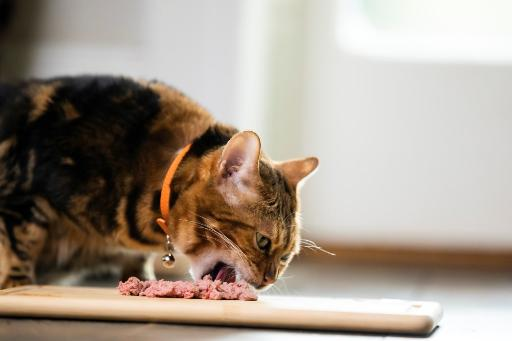cat_eating: (0, 76, 318, 300)
